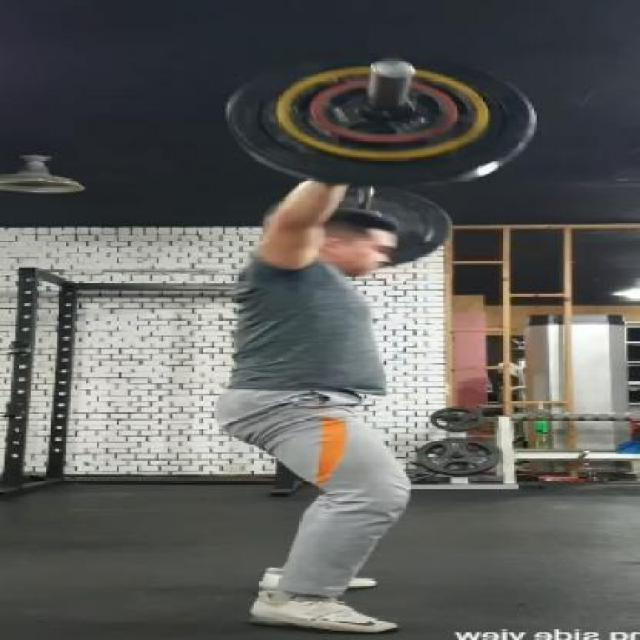Barbell: (364, 56, 422, 81)
